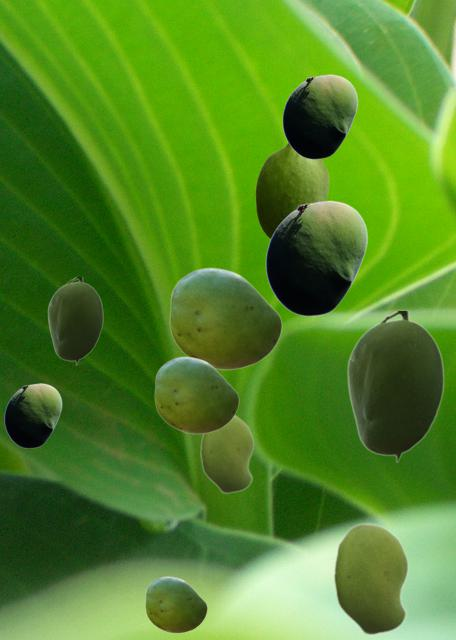green_mango: (346, 311, 443, 462), (265, 200, 367, 315), (169, 267, 281, 369), (333, 522, 408, 635), (255, 143, 328, 238), (154, 356, 238, 433), (282, 74, 357, 158), (47, 277, 102, 364), (200, 415, 253, 493), (4, 383, 61, 447), (145, 576, 206, 632)
